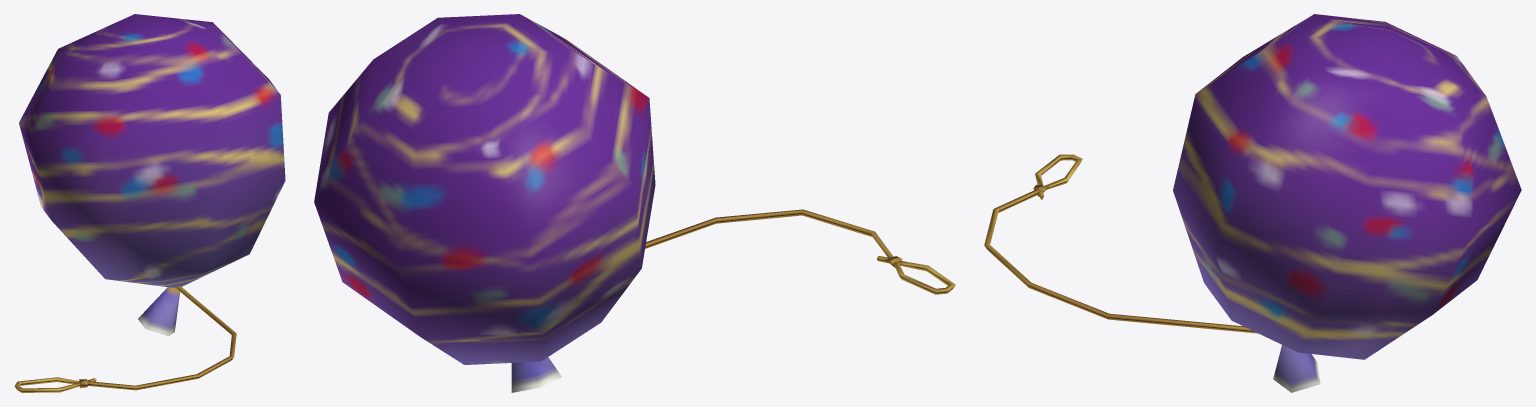
The model's file is jsf_WaterBalloon_08_c.fbx.
3 views of the same model, side by side, from view 1: azimuth 30°, elevation 25°; view 2: azimuth 150°, elevation 25°; view 3: azimuth 270°, elevation 25° (orthographic). The views are drawn at different scales.
Visible parts, largest first — view 1: jsf_WaterBalloon_08_c; view 2: jsf_WaterBalloon_08_c; view 3: jsf_WaterBalloon_08_c.
Boxes of the visible parts, bbox=[...] form: jsf_WaterBalloon_08_c: bbox=[14, 14, 285, 392]; jsf_WaterBalloon_08_c: bbox=[314, 14, 955, 392]; jsf_WaterBalloon_08_c: bbox=[984, 14, 1521, 392].
Bounding box in the file's own units: 16.89 × 12.55 × 17.11.
